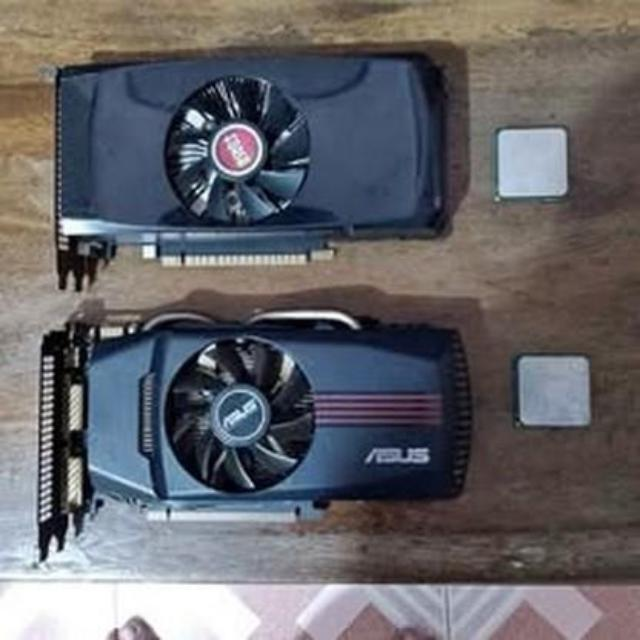CPU: (519, 354, 590, 426), (500, 128, 568, 200)
GPU: (41, 310, 473, 556), (39, 41, 454, 292)
